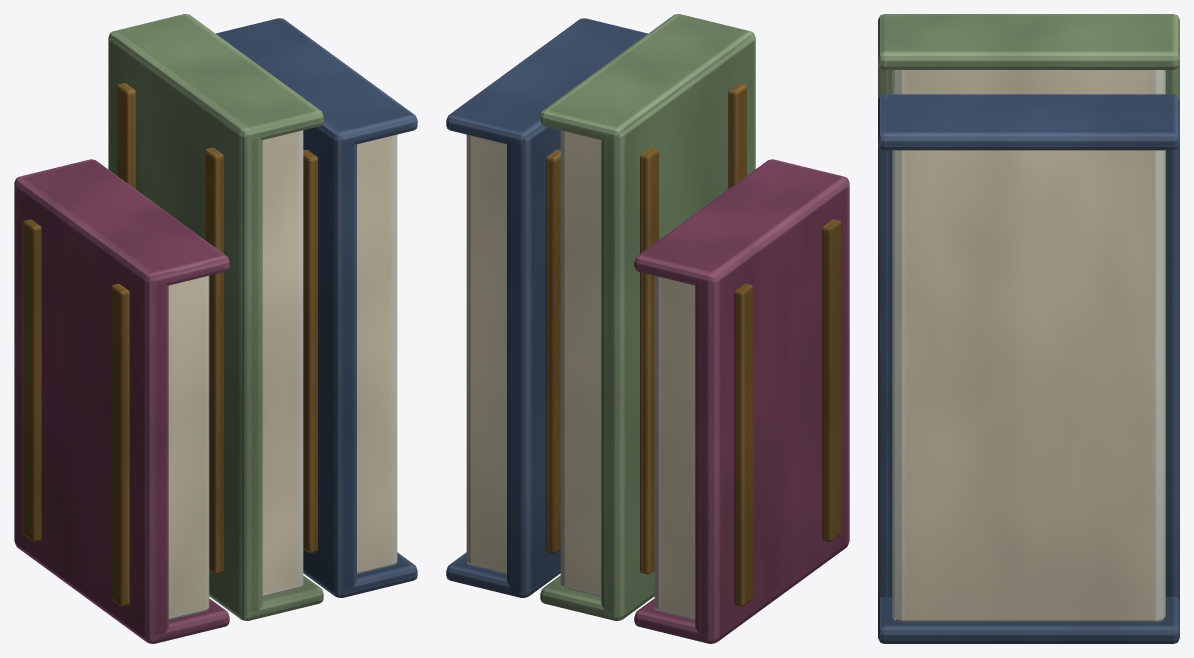
The model's file is 21_Book_Group_1.fbx.
The picture shows the model from 3 angles, left to right: view 1: azimuth 30°, elevation 25°; view 2: azimuth 150°, elevation 25°; view 3: azimuth 270°, elevation 25°; orthographic projection. The views are drawn at different scales.
Visible parts, largest first — view 1: 21_Book_Group_1; view 2: 21_Book_Group_1; view 3: 21_Book_Group_1.
Boxes of the visible parts, x1,y1,x2,y2 form: 21_Book_Group_1: [14, 14, 417, 643]; 21_Book_Group_1: [446, 14, 849, 643]; 21_Book_Group_1: [878, 14, 1179, 643].
Bounding box in the file's own units: 22.3 × 37.57 × 19.
1 material, 1 textured.
